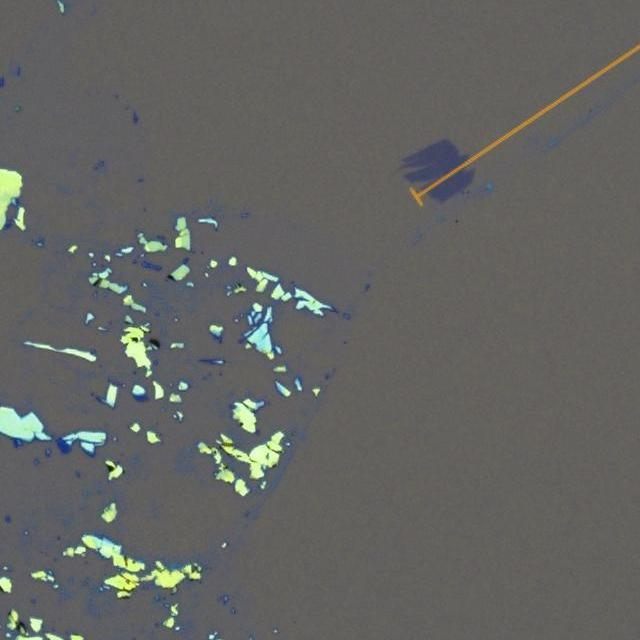monolayer-eWW4: (397, 138, 478, 204)
